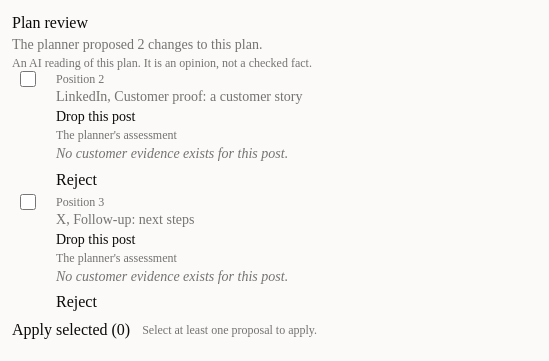
it: NO bulk accept-all: a ratification round is an explicit selection › Apply is disabled until at least one proposal is selected, shows the count, and is wired to the round form
This screenshot has width=549, height=361.
Expected: the button "Apply selected (0)" is disabled, x1=12 y1=316 x2=130 y2=344
Expected: the button "Apply selected (0)" is shown, x1=12 y1=316 x2=130 y2=344
Step 1. Click the checkbox named "proposalId" → (28, 79), box x1=20 y1=71 x2=36 y2=87
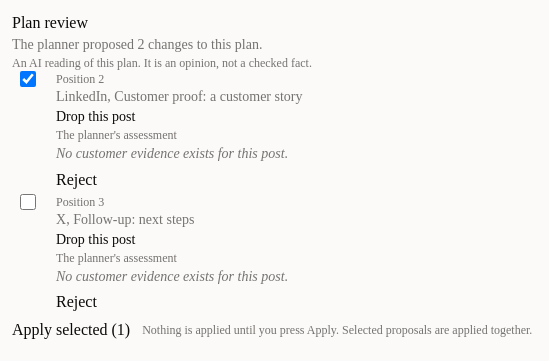
Now the button "Apply selected (1)" is enabled, box x1=12 y1=316 x2=130 y2=344
Now the button "Apply selected (1)" is shown, box x1=12 y1=316 x2=130 y2=344
Step 2. Click the checkbox named "proposalId" → (28, 202), box x1=20 y1=194 x2=36 y2=210
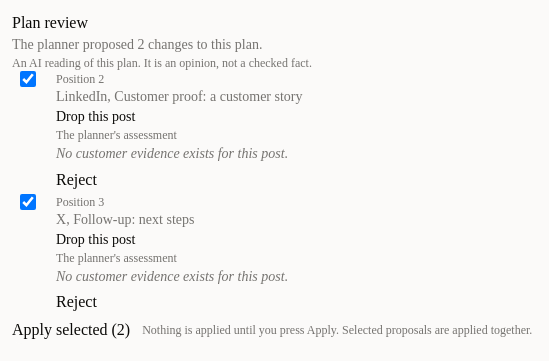
Now the button "Apply selected (2)" is shown, box x1=12 y1=316 x2=130 y2=344
Step 3. Click the checkbox named "proposalId" → (28, 79), box x1=20 y1=71 x2=36 y2=87
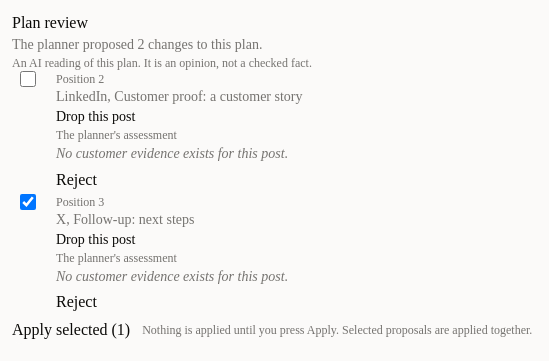
Expected: the form named "expectedVersion" holds "1", x1=12 y1=316 x2=532 y2=344
Now the text "Nothing is applied until you press Apply." is shown, box x1=142 y1=323 x2=532 y2=337
Now the button "Apply selected (1)" is shown, box x1=12 y1=316 x2=130 y2=344
